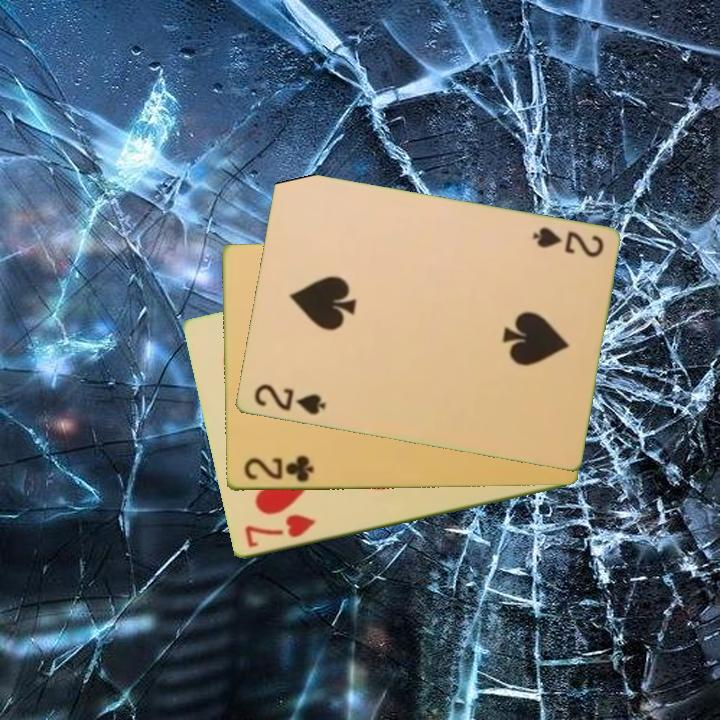2c: (240, 452, 317, 485)
2s: (528, 223, 606, 261), (250, 381, 328, 418)
7h: (240, 511, 319, 551)
